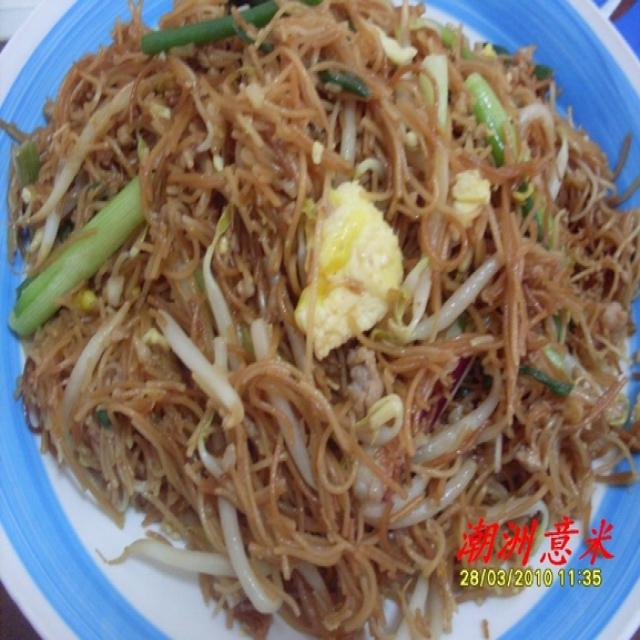面条主食: (24, 8, 624, 631)
